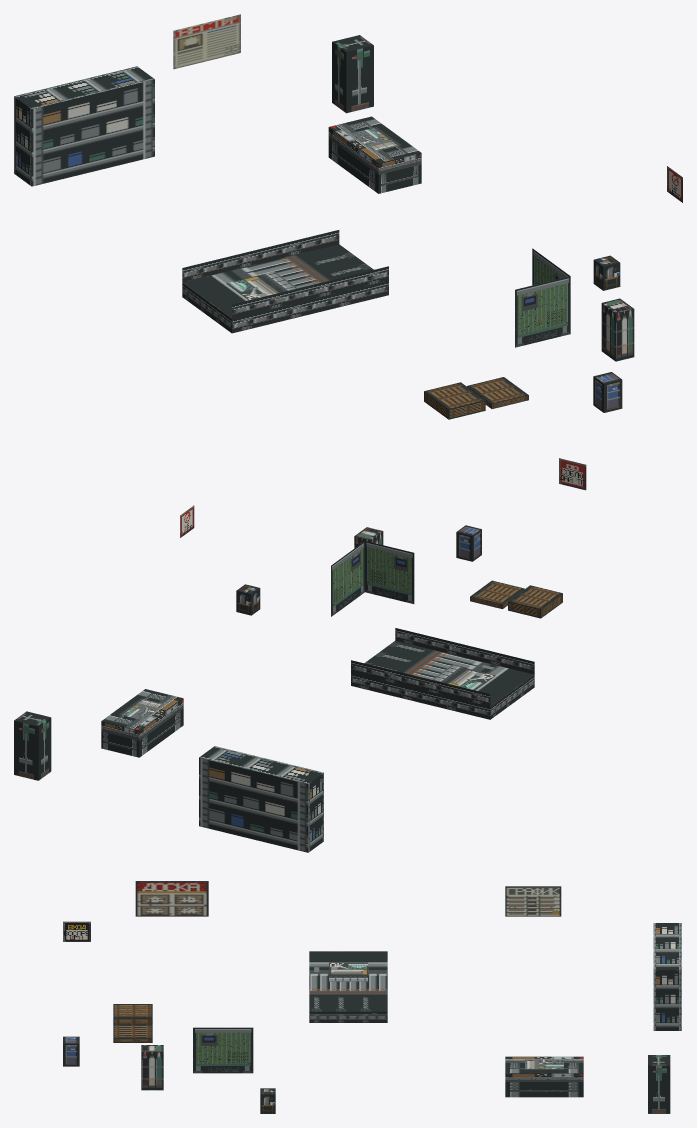
The model's file is machines.glb.
3 renders of one model, top to bottom at view 1: azimuth 30°, elevation 25°; view 2: azimuth 150°, elevation 25°; view 3: azimuth 270°, elevation 25°, orthographic. The views are drawn at different scales.
Parts seen in each view (by area): view 1: machines, signs, parts; view 2: machines, parts, signs; view 3: machines, board, parts, signs.
Boxes of the visible parts, x1=… form: machines: x1=14, y1=35, x2=634, y2=419; signs: x1=173, y1=14, x2=682, y2=202; parts: x1=226, y1=127, x2=400, y2=300; machines: x1=14, y1=525, x2=562, y2=852; parts: x1=119, y1=665, x2=495, y2=720; signs: x1=180, y1=458, x2=586, y2=537; machines: x1=63, y1=923, x2=681, y2=1113; board: x1=135, y1=881, x2=561, y2=916; parts: x1=329, y1=962, x2=563, y2=1069; signs: x1=63, y1=921, x2=90, y2=941.
Size of the model in its own units: 13.9 by 3.6 by 23.9.
Materials: 4 (4 with a texture image).
